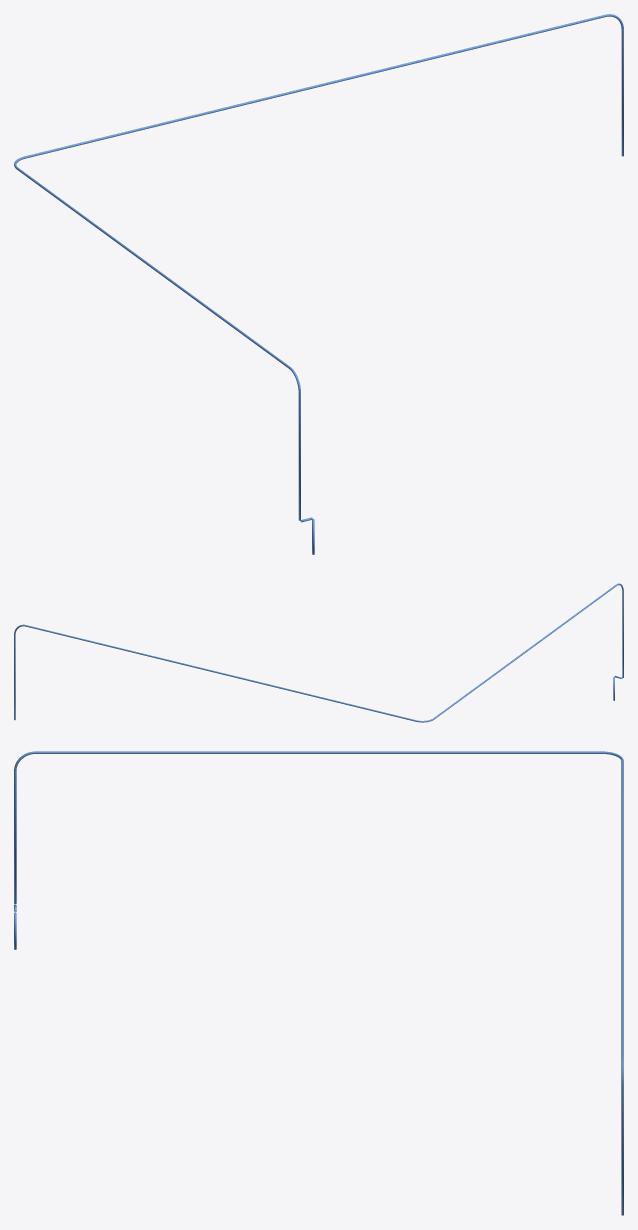
Rendered from pipes_supply__water-well_and_softener-yes_and_flowsmart-yes_and_plumbing-pex__r4t.glb.
3 views of the same model, one above another, from view 1: azimuth 30°, elevation 25°; view 2: azimuth 150°, elevation 25°; view 3: azimuth 270°, elevation 25° (orthographic). The views are drawn at different scales.
Visible parts, largest first — view 1: pipe_supply_well_to_softener_fs__pex; view 2: pipe_supply_well_to_softener_fs__pex; view 3: pipe_supply_well_to_softener_fs__pex.
Part boxes in pixels (box(x1,y1,x2,y2)): pipe_supply_well_to_softener_fs__pex: box(14, 14, 623, 554); pipe_supply_well_to_softener_fs__pex: box(14, 583, 623, 722); pipe_supply_well_to_softener_fs__pex: box(14, 751, 623, 1215).
Size of the model in its own units: 6.44 by 1.83 by 5.3.
